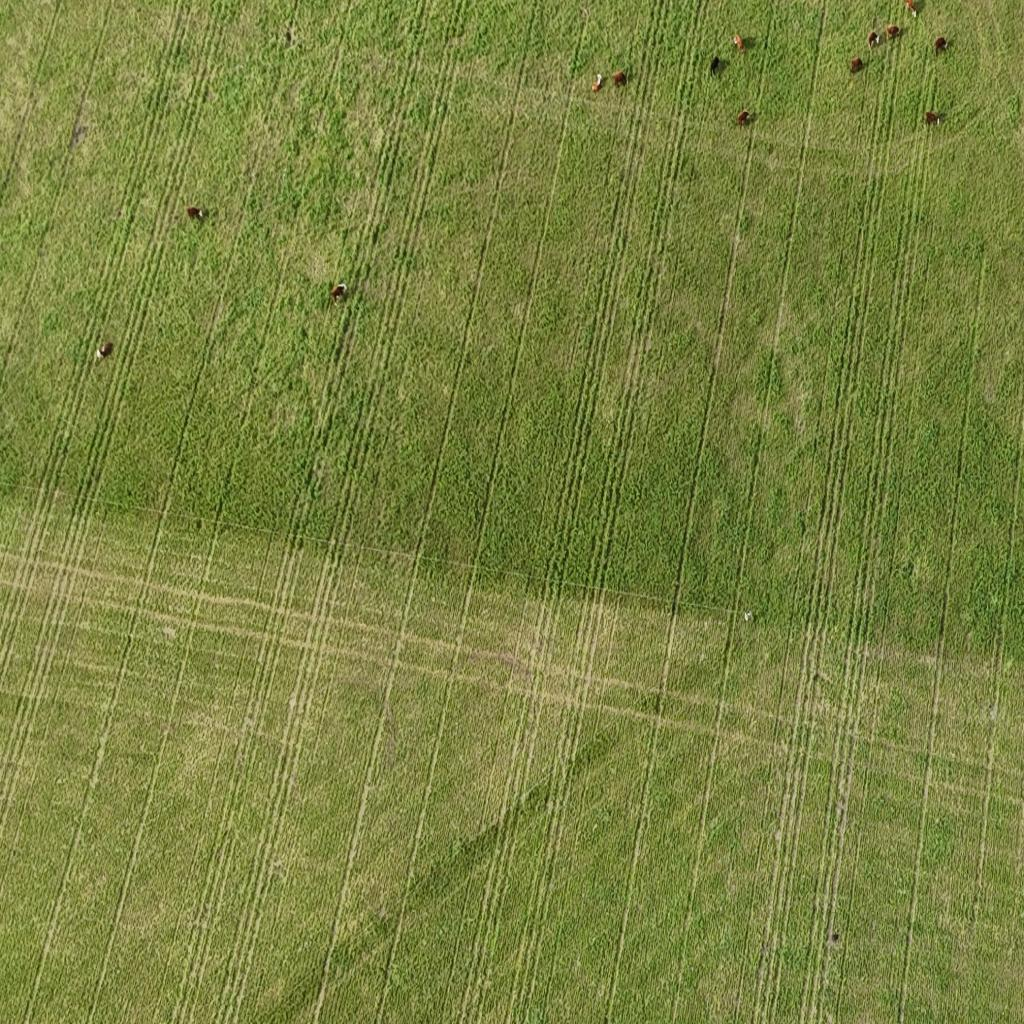cow: (331, 280, 349, 308), (96, 340, 116, 363), (186, 206, 208, 224), (736, 108, 752, 130), (593, 71, 605, 92), (731, 30, 743, 51), (924, 108, 938, 126), (886, 24, 900, 42), (612, 70, 626, 88), (934, 36, 947, 55), (868, 31, 880, 50), (904, 0, 917, 17), (850, 57, 862, 74), (710, 55, 720, 75)
